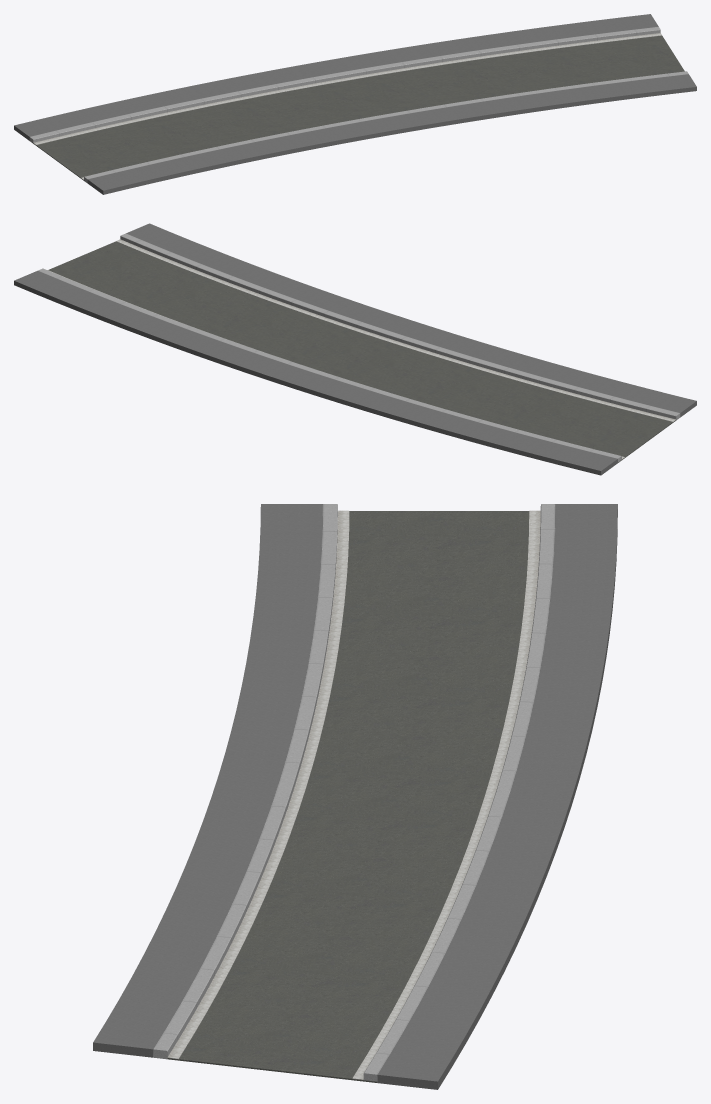
The model's file is sweethome3d-scopia-curved-road-1-lane-26m.glb.
The picture shows the model from 3 angles, top to bottom: view 1: azimuth 30°, elevation 25°; view 2: azimuth 150°, elevation 25°; view 3: azimuth 270°, elevation 25°; orthographic projection. The views are drawn at different scales.
Visible parts, largest first — view 1: roadCourbe1VoieAvecTrottoirs26m_Plane.040; view 2: roadCourbe1VoieAvecTrottoirs26m_Plane.040; view 3: roadCourbe1VoieAvecTrottoirs26m_Plane.040.
Part boxes in pixels (bbox=[...]): roadCourbe1VoieAvecTrottoirs26m_Plane.040: bbox=[14, 14, 696, 194]; roadCourbe1VoieAvecTrottoirs26m_Plane.040: bbox=[14, 223, 696, 475]; roadCourbe1VoieAvecTrottoirs26m_Plane.040: bbox=[93, 504, 617, 1089].
Size of the model in its own units: 2660 by 18 by 1022.
Materials: 9 (9 with a texture image).
